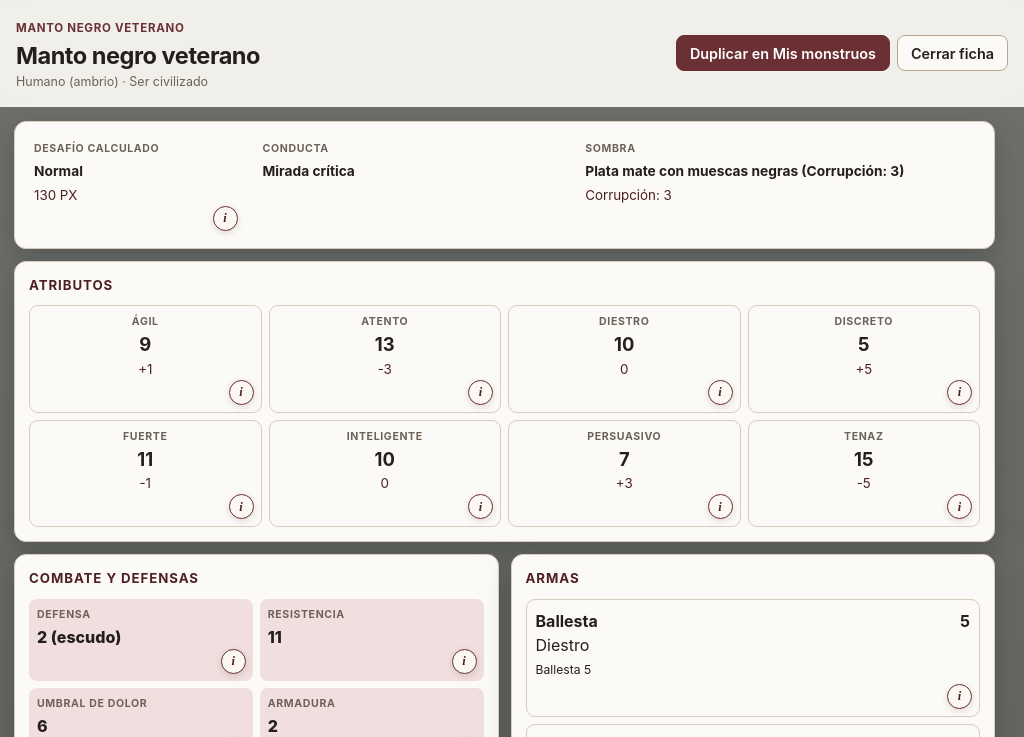
Test: MonsterReferenceSheet › explica Sexto sentido adepto en ataque a distancia y Defensa
This screenshot has width=1024, height=737.
Click the button named "Ver cálculo de ataque de Ballesta".
click(960, 696)  # box [947, 684, 972, 709]
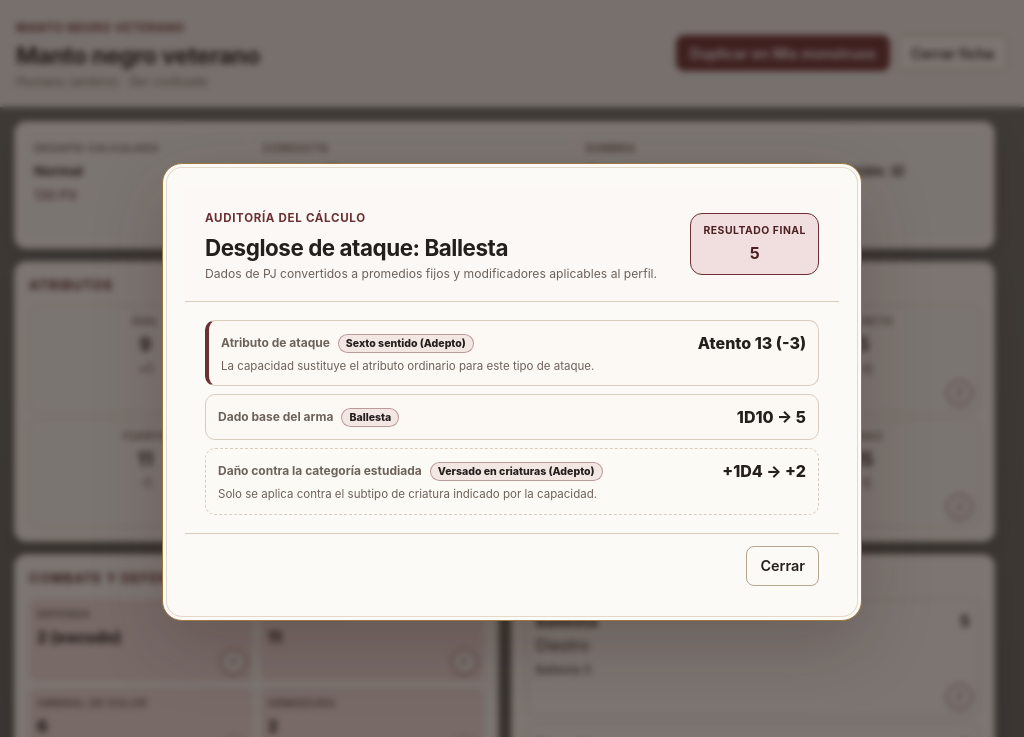
Result: the text "Atributo de ataque" shows "Atento 13 (-3)" at [698, 333, 806, 353]
Result: the text "Sexto sentido (Adepto)" is shown at [338, 334, 474, 353]
Click the button "Cerrar".
click(783, 566)  # box [746, 546, 819, 586]
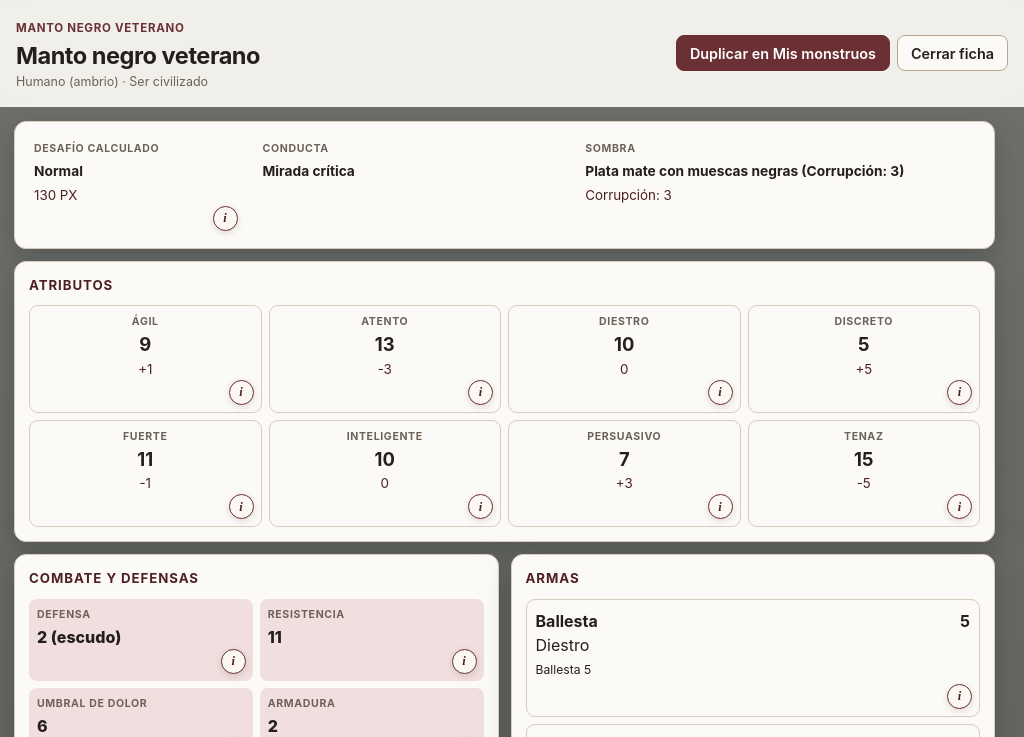
Click the button named "Ver cálculo de Defensa".
click(233, 662)  # box [221, 649, 246, 674]
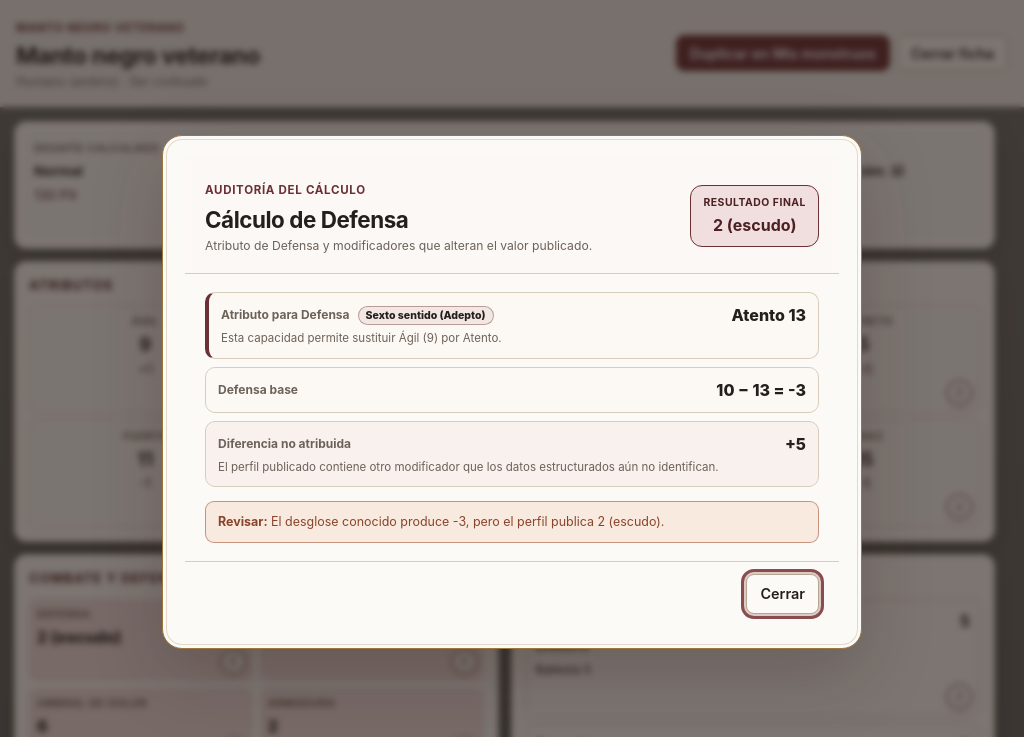
Result: the text "Atributo para Defensa" shows "Atento 13" at [732, 305, 806, 325]
Result: the text "Sexto sentido (Adepto)" is shown at [358, 306, 494, 325]
